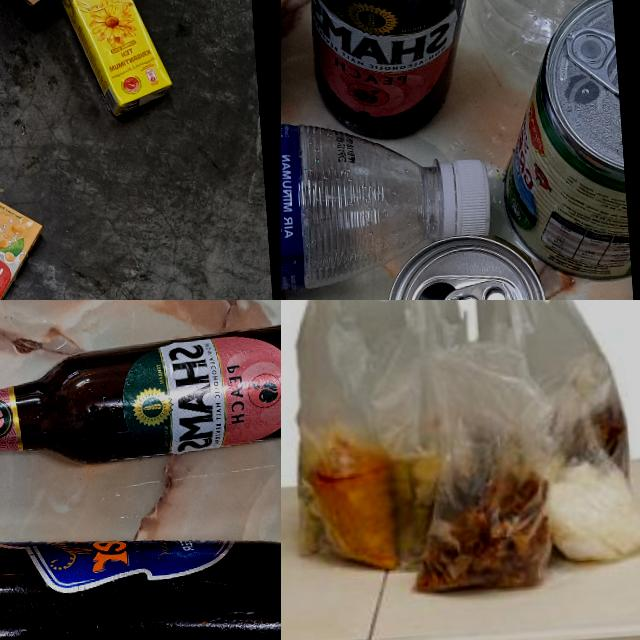aba de lata: (564, 27, 619, 104), (439, 280, 514, 300)
caixinha: (56, 0, 171, 121), (0, 195, 53, 300)
garrafa de vidro: (0, 317, 281, 481), (0, 519, 281, 640), (303, 0, 496, 140)
garrafa plástica: (281, 107, 445, 299)
lata: (489, 0, 631, 286), (315, 230, 556, 300)
sacola plástica: (281, 300, 472, 591), (406, 348, 566, 634), (433, 300, 640, 500), (294, 402, 404, 640), (546, 391, 640, 614)
tampa plástica: (438, 157, 493, 240)
